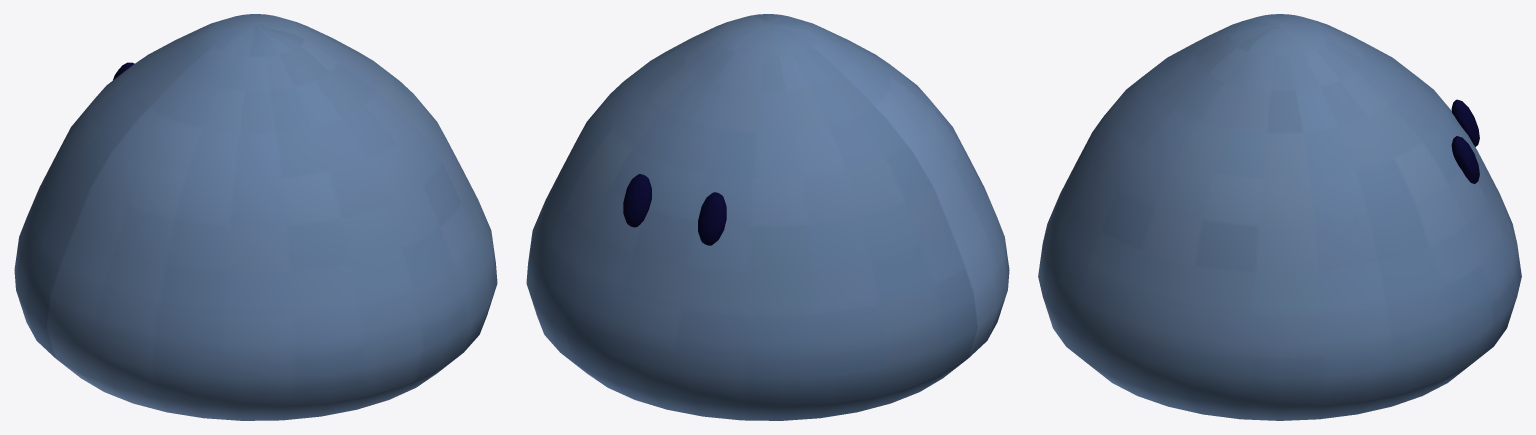
Rendered from slimeplushenemy.fbx.
The picture shows the model from 3 angles, left to right: view 1: azimuth 30°, elevation 25°; view 2: azimuth 150°, elevation 25°; view 3: azimuth 270°, elevation 25°; orthographic projection.
Parts seen in each view (by area): view 1: Sphere; view 2: Sphere; view 3: Sphere.
Part boxes in pixels (x1,y1,x2,y2): Sphere: [14, 14, 497, 420]; Sphere: [526, 14, 1009, 420]; Sphere: [1038, 14, 1521, 420].
Bounding box in the file's own units: 224 × 170 × 224.
Materials: 2 (1 with a texture image).
